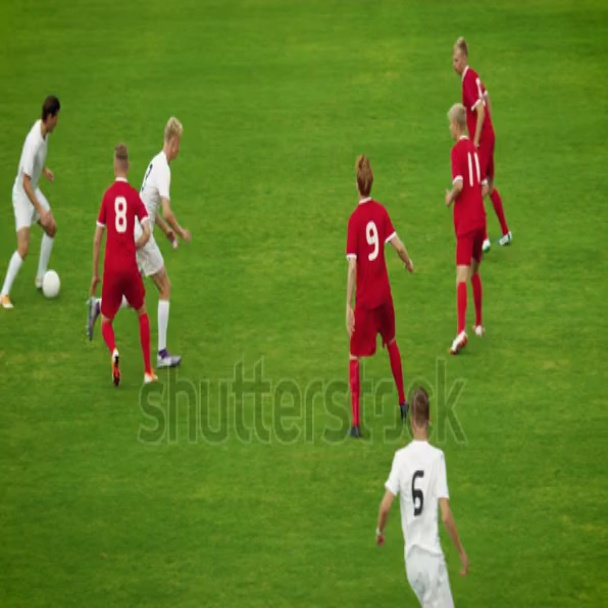ball: (42, 271, 63, 303)
